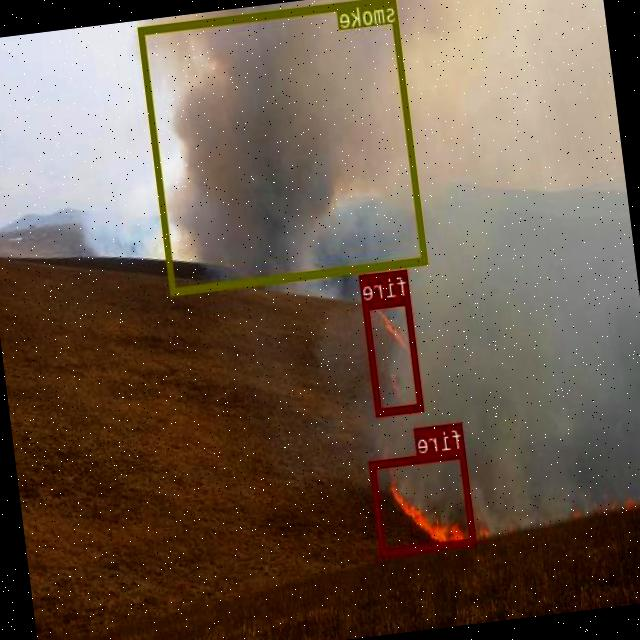fire: (370, 448, 478, 554), (364, 296, 426, 414)
smoke: (138, 0, 429, 293)
